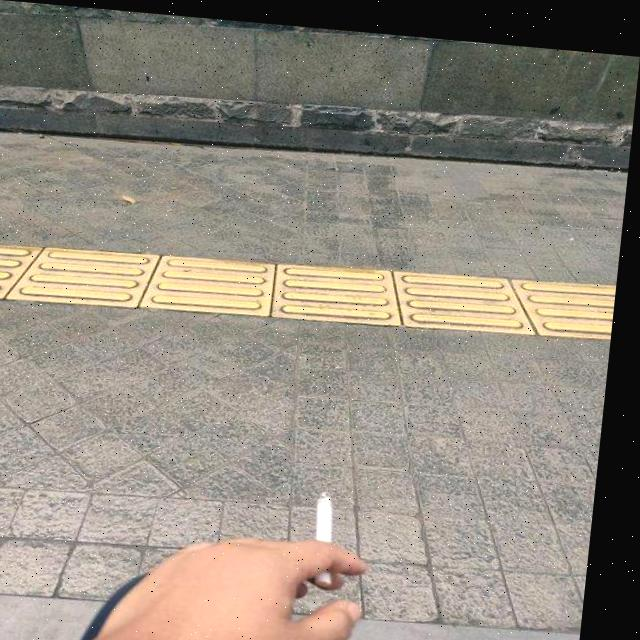cigarette: (320, 484, 352, 583)
